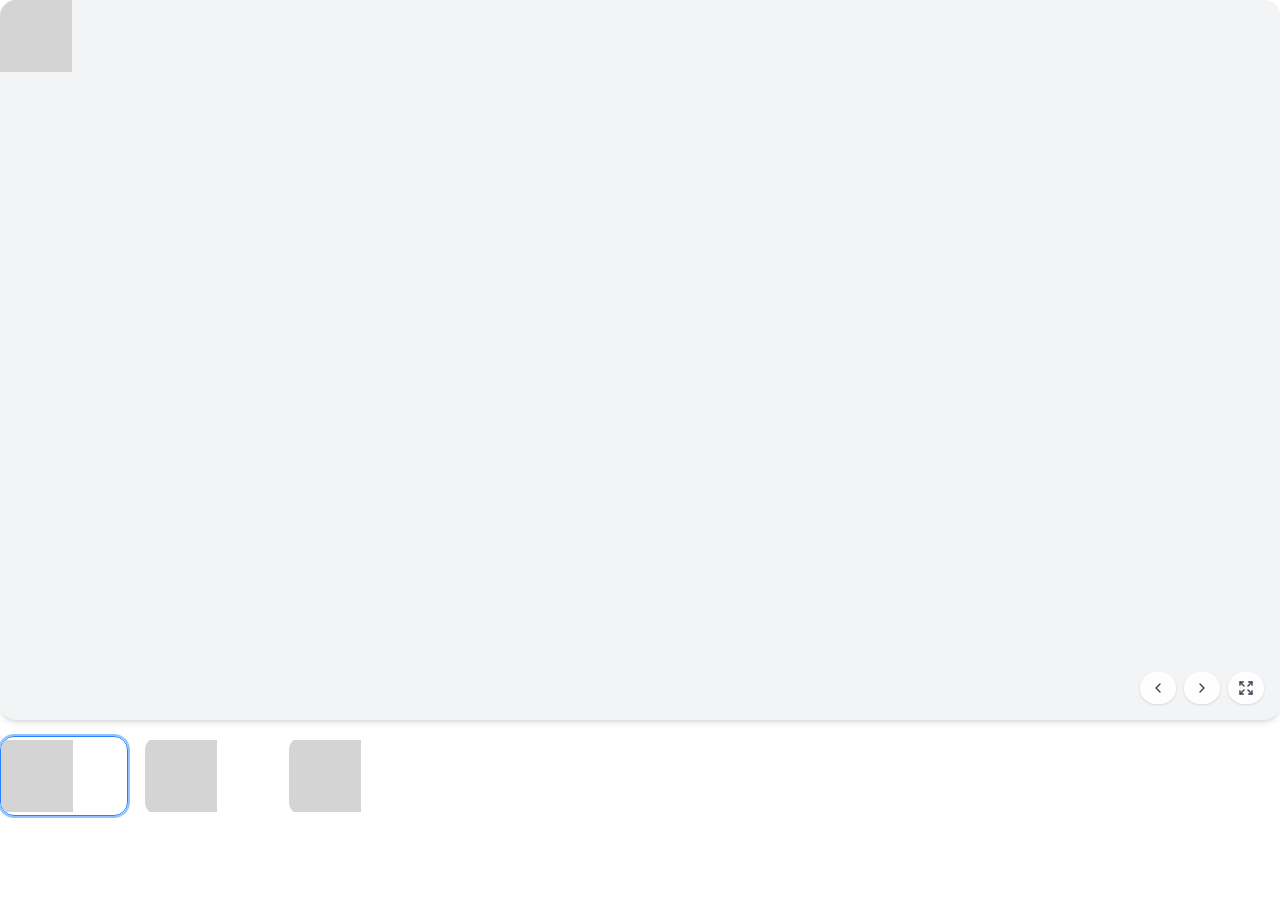
it: DetailGallery › opens modal and navigates through images
Click the button named "전체보기" at (1246, 688), box [1228,672,1264,704]
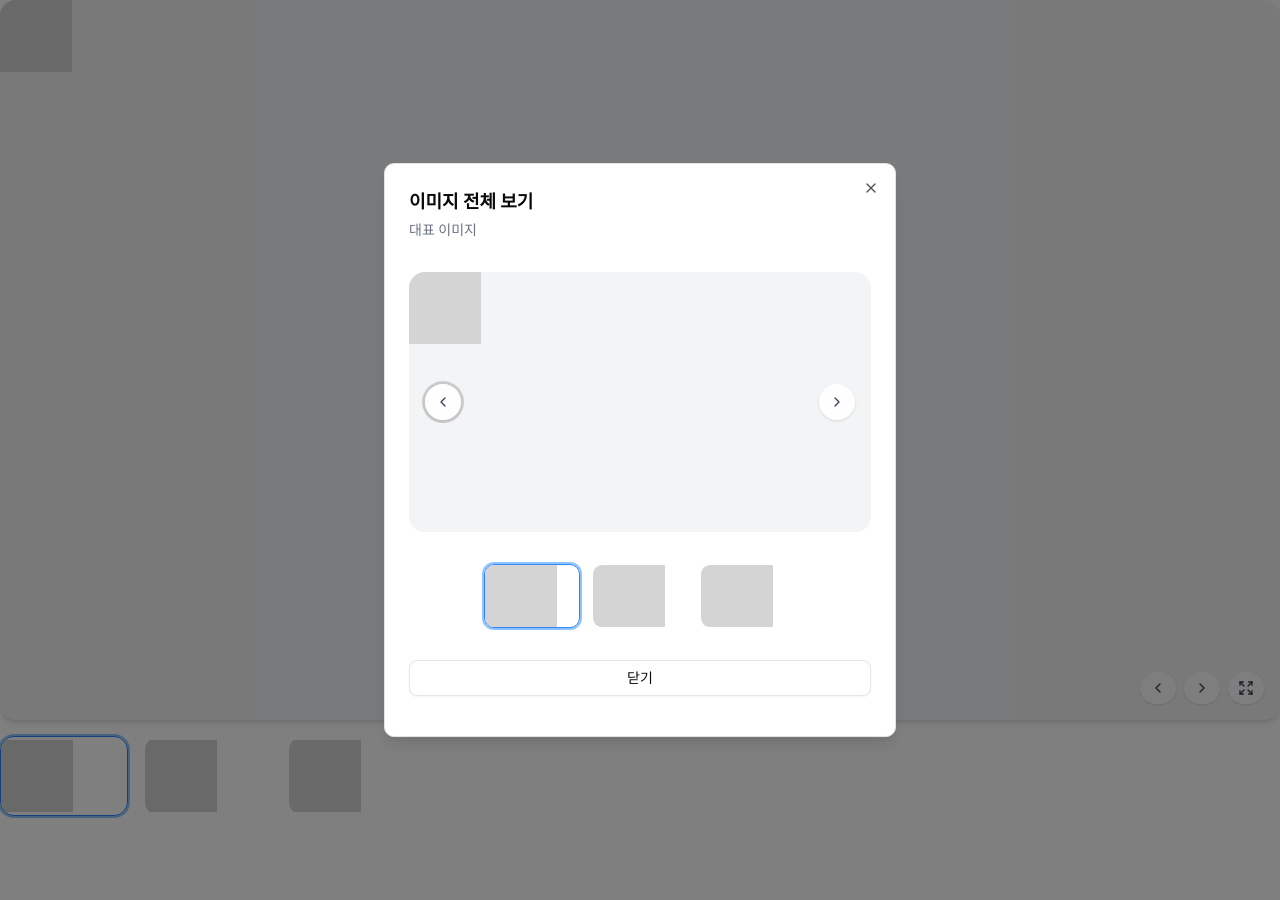
expect the dialog "이미지 전체 보기 대표 이미지 닫기" is shown: met, box [384,163,896,737]
Click the button named "다음 이미지" at (837, 402), box [819,384,855,420]
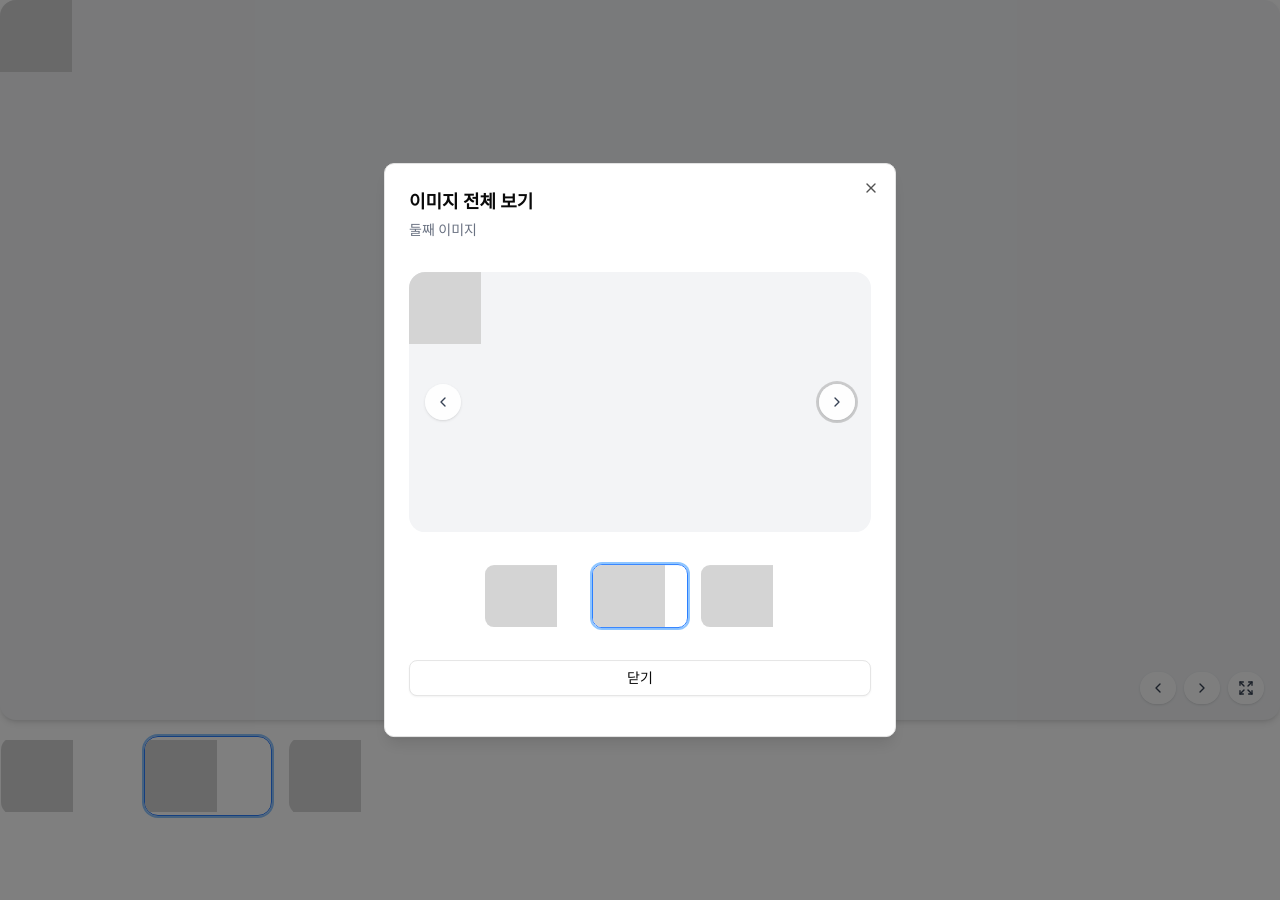
Click the button "닫기" at (640, 678), box [409,660,871,696]
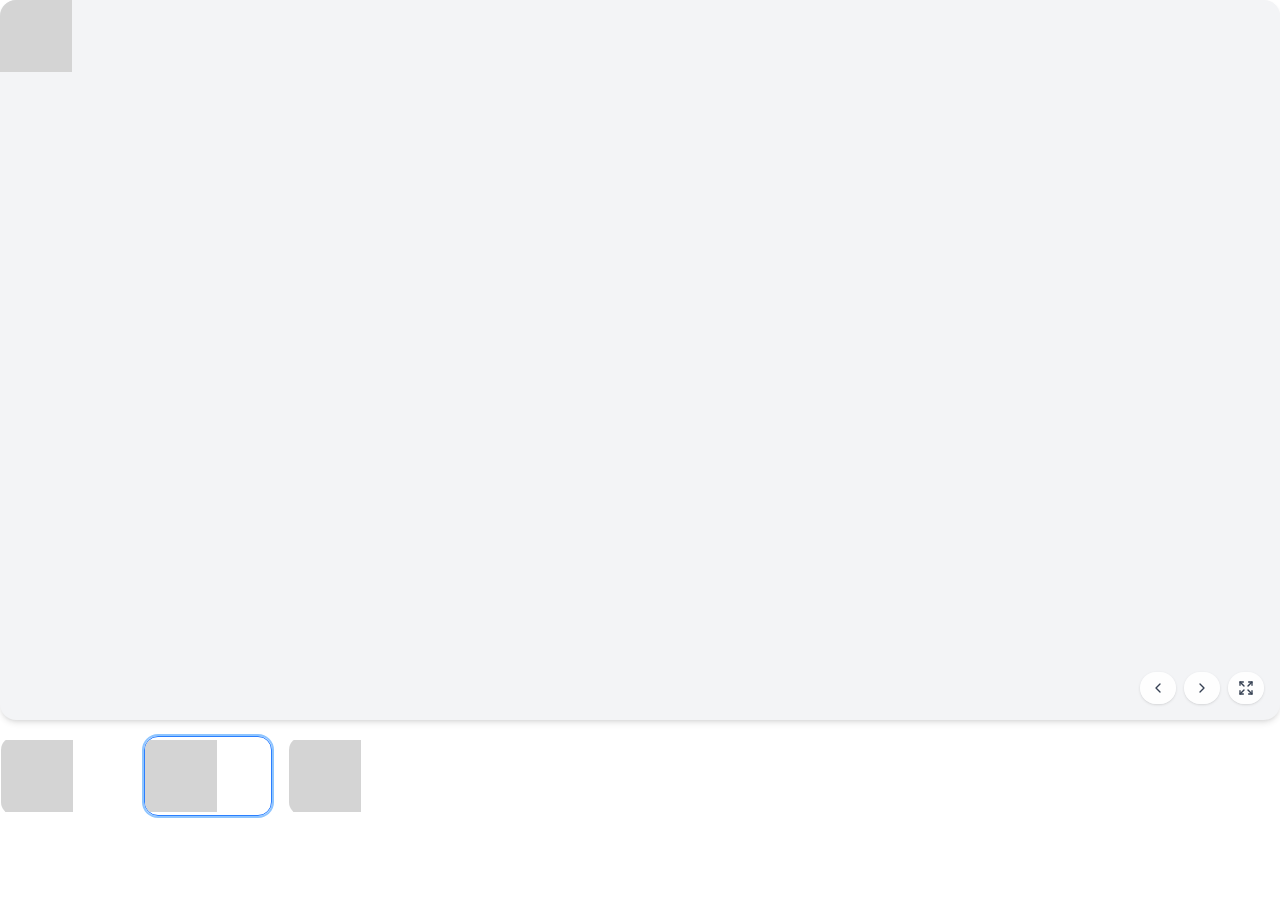
expect the heading "이미지 전체 보기" is gone: met
